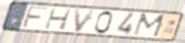0: (93, 10, 115, 34)
4: (114, 12, 136, 37)
F: (20, 5, 50, 29)
H: (43, 7, 74, 31)
M: (131, 13, 169, 39)
V: (73, 8, 97, 33)
